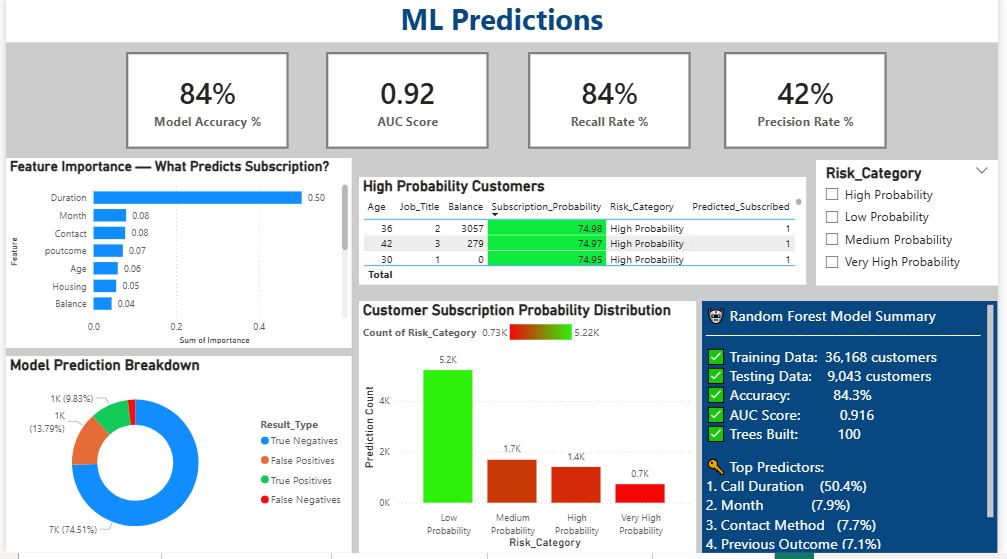

The page's visual inventory and layout, read from the dashboard file:
{"tool":"powerbi","page":{"name":"ML Predictions","canvas":[1280,720],"ordinal":4},"visuals":[{"type":"textbox","box":[0,0,1279.8,60.9],"z":0},{"type":"cardVisual","fields":{"Data":["_Measures.Model Accuracy %"]},"box":[154.5,73.7,209.8,124.7],"z":1},{"type":"cardVisual","fields":{"Data":["_Measures.AUC Score"]},"box":[412.4,73.7,209.8,124.7],"z":2},{"type":"cardVisual","fields":{"Data":["_Measures.Recall Rate %"]},"box":[673.2,73.7,209.8,124.7],"z":3},{"type":"cardVisual","fields":{"Data":["_Measures.Precision Rate %"]},"box":[926.9,73.7,209.8,124.7],"z":4},{"type":"clusteredBarChart","title":"Feature Importance — What Predicts Subscription?","fields":{"Category":["Feature_Importance.Feature"],"Y":["Sum(Feature_Importance.Importance)"]},"box":[0,209.8,446.5,245.2],"z":5},{"type":"donutChart","title":"Model Prediction Breakdown","fields":{"Category":["Prediction_Summary.Result_Type"],"Y":["Sum(Prediction_Summary.Count)"]},"box":[0,466.3,446.5,253.7],"z":6},{"type":"tableEx","title":"High Probability Customers","fields":{"Values":["churn_predictions.Age","churn_predictions.Job_Title","churn_predictions.Balance","churn_predictions.Subscription_Probability","churn_predictions.Risk_Category","churn_predictions.Predicted_Subscribed"]},"box":[455,235.3,576.9,138.9],"z":7},{"type":"clusteredColumnChart","title":"Customer Subscription Probability Distribution","fields":{"Category":["churn_predictions.Risk_Category"],"Y":["_Measures.Prediction Count"]},"box":[455,395.4,435.1,324.6],"z":8},{"type":"textbox","box":[898.6,395.4,381.3,324.6],"z":9},{"type":"slicer","fields":{"Values":["churn_predictions.Risk_Category"]},"box":[1044.6,212.6,235.3,161.6],"z":10}]}

Visuals, with their boxes in screenshot pixels (x1, y1, x2, y2), scaled from the page's 1280x720 canvas onto the 1007x559 screenshot:
textbox: bbox=[0, 0, 1006, 47]
cardVisual - _Measures.Model Accuracy %: bbox=[122, 57, 287, 154]
cardVisual - _Measures.AUC Score: bbox=[324, 57, 489, 154]
cardVisual - _Measures.Recall Rate %: bbox=[530, 57, 695, 154]
cardVisual - _Measures.Precision Rate %: bbox=[729, 57, 894, 154]
"Feature Importance — What Predicts Subscription?" clusteredBarChart: bbox=[0, 163, 351, 353]
"Model Prediction Breakdown" donutChart: bbox=[0, 362, 351, 558]
"High Probability Customers" tableEx: bbox=[358, 183, 812, 291]
"Customer Subscription Probability Distribution" clusteredColumnChart: bbox=[358, 307, 700, 558]
textbox: bbox=[707, 307, 1006, 558]
slicer - churn_predictions.Risk_Category: bbox=[822, 165, 1006, 291]
